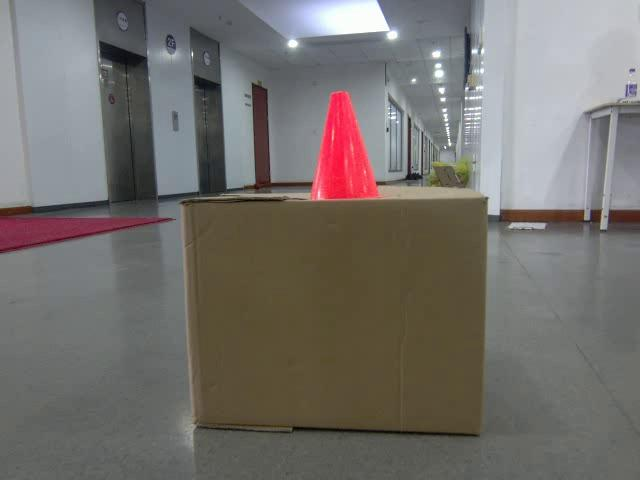orange_barrel: (301, 88, 382, 202)
